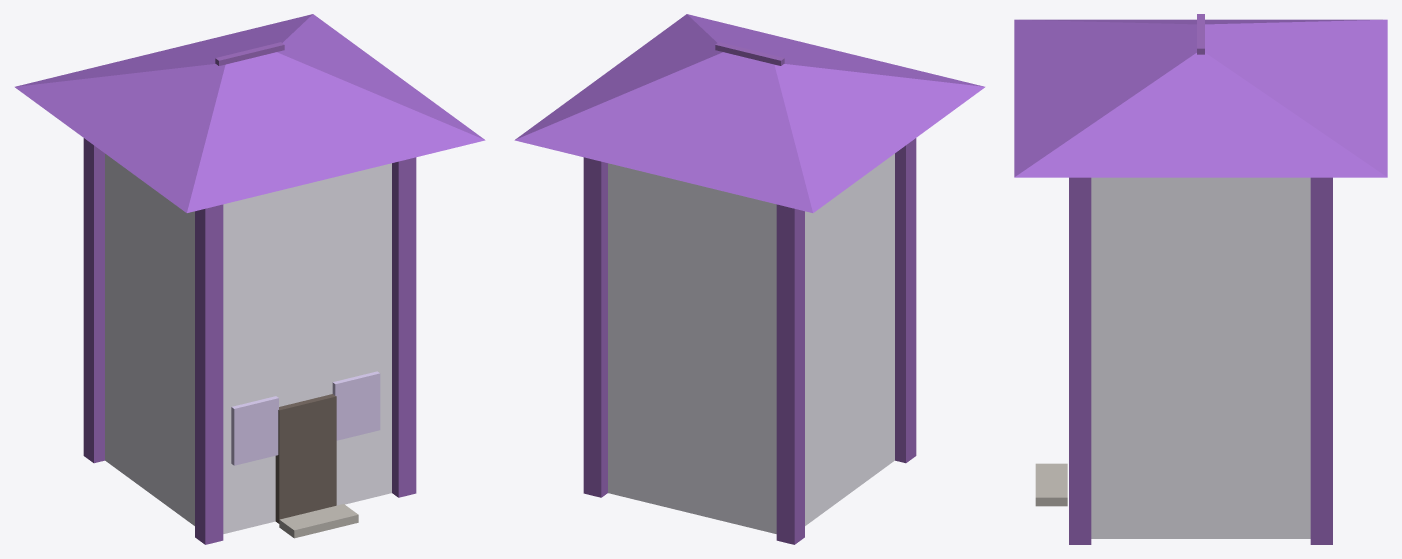
Rendered from tower_a.glb.
3 views of the same model, side by side, from view 1: azimuth 30°, elevation 25°; view 2: azimuth 150°, elevation 25°; view 3: azimuth 270°, elevation 25° (orthographic). The views are drawn at different scales.
Size of the model in its own units: 4.68 by 6.33 by 4.68.
